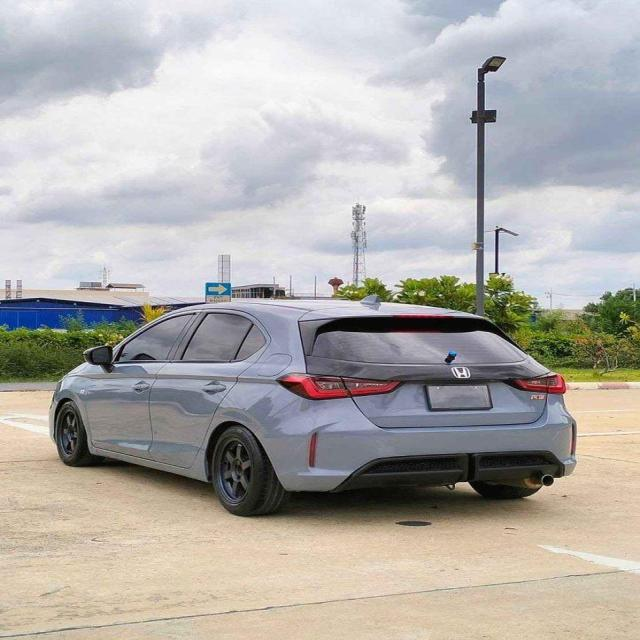Hatchback: (50, 298, 579, 519)
